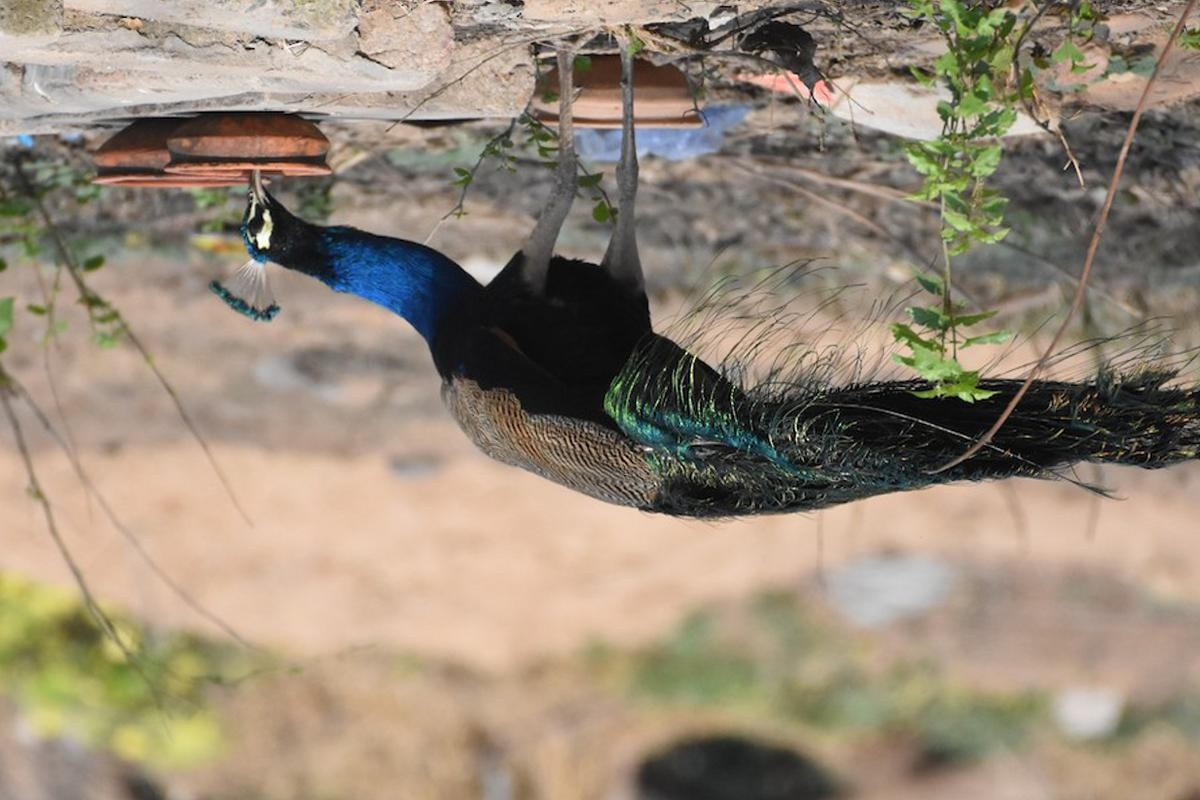peacock: (224, 83, 1200, 511)
